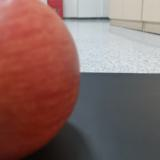apple: (1, 1, 81, 160)
